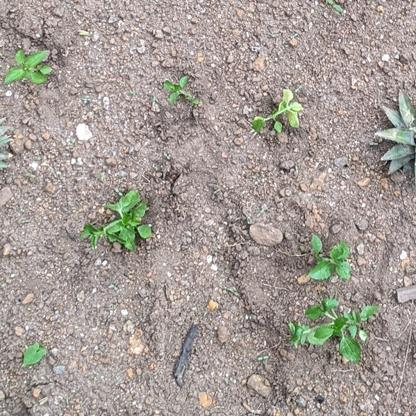pineapple: (374, 87, 416, 179)
weed: (290, 296, 383, 364), (80, 188, 154, 250), (297, 233, 352, 285), (252, 88, 306, 138), (1, 47, 58, 89), (160, 73, 198, 107)
